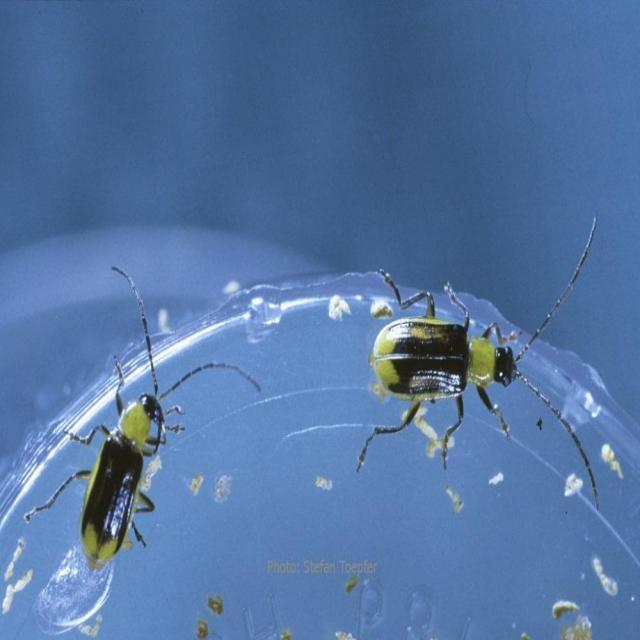trips: (24, 264, 262, 570), (358, 214, 601, 508)
